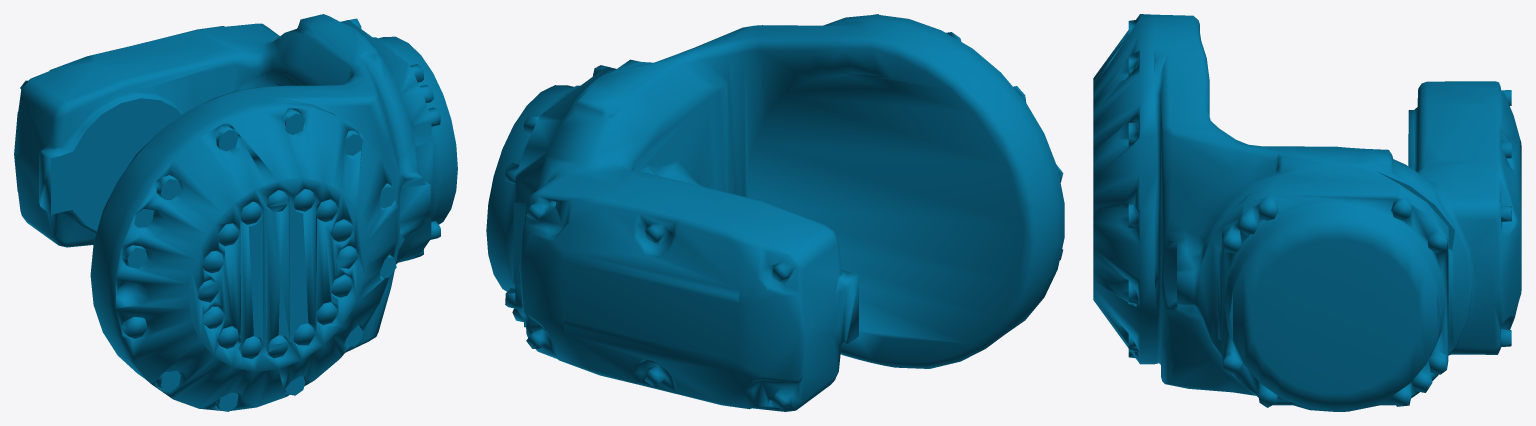
The picture shows the model from 3 angles, left to right: view 1: azimuth 30°, elevation 25°; view 2: azimuth 150°, elevation 25°; view 3: azimuth 270°, elevation 25°; orthographic projection. The views are drawn at different scales.
Visible parts, largest first — view 1: f_1-06vxl70-a0_lk5; view 2: f_1-06vxl70-a0_lk5; view 3: f_1-06vxl70-a0_lk5.
Part boxes in pixels (<box>): f_1-06vxl70-a0_lk5: <box>14,14,457,411</box>; f_1-06vxl70-a0_lk5: <box>486,14,1064,411</box>; f_1-06vxl70-a0_lk5: <box>1093,14,1521,411</box>.
Size of the model in its own units: 0.25 by 0.2251 by 0.184.
